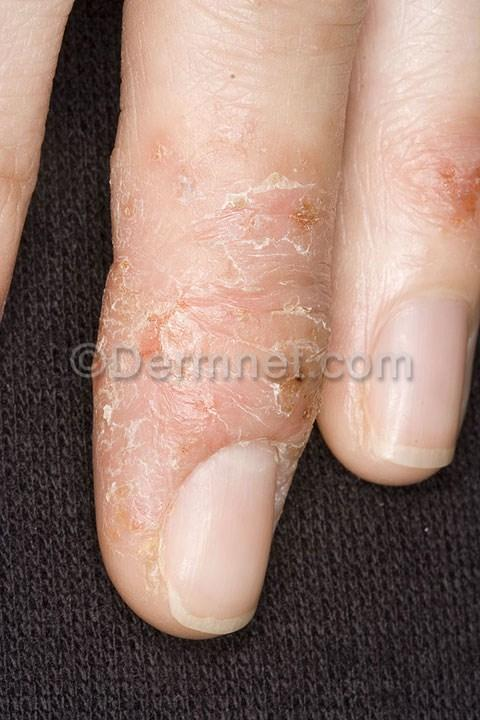Eczema: (90, 161, 345, 434), (416, 136, 480, 243)
